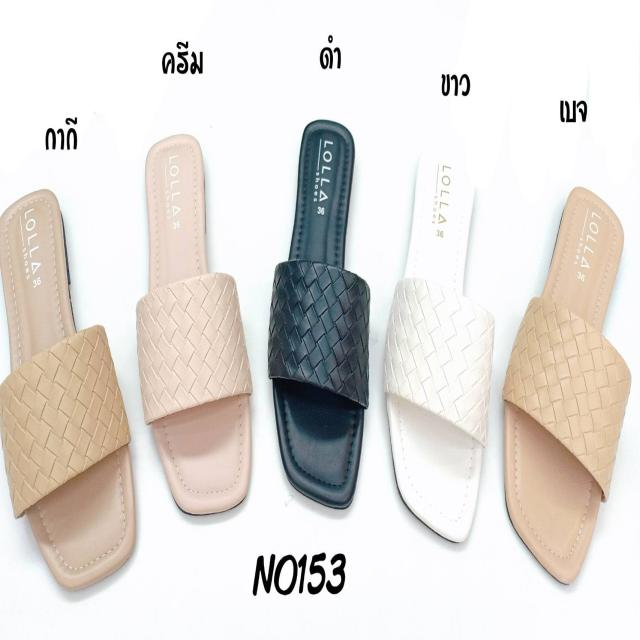bej: (502, 182, 625, 584)
black: (268, 132, 362, 506)
cream: (139, 130, 251, 517)
kakee: (0, 180, 137, 594)
white: (384, 156, 484, 546)
